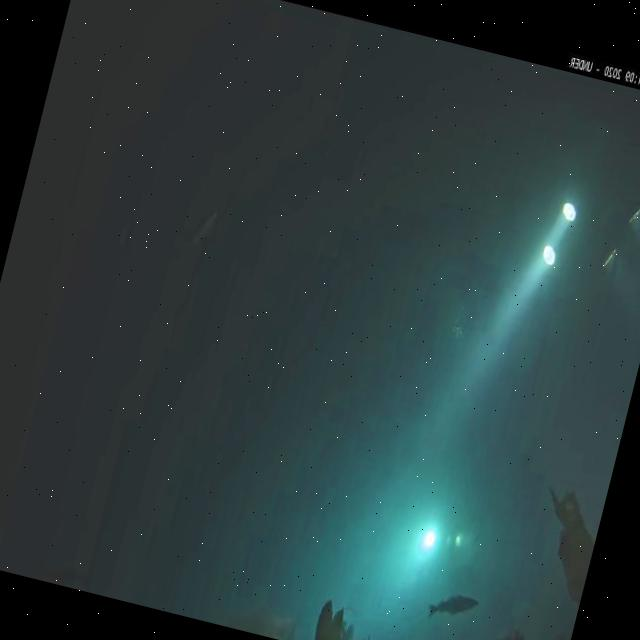fish: (422, 584, 482, 632), (182, 203, 220, 258)
